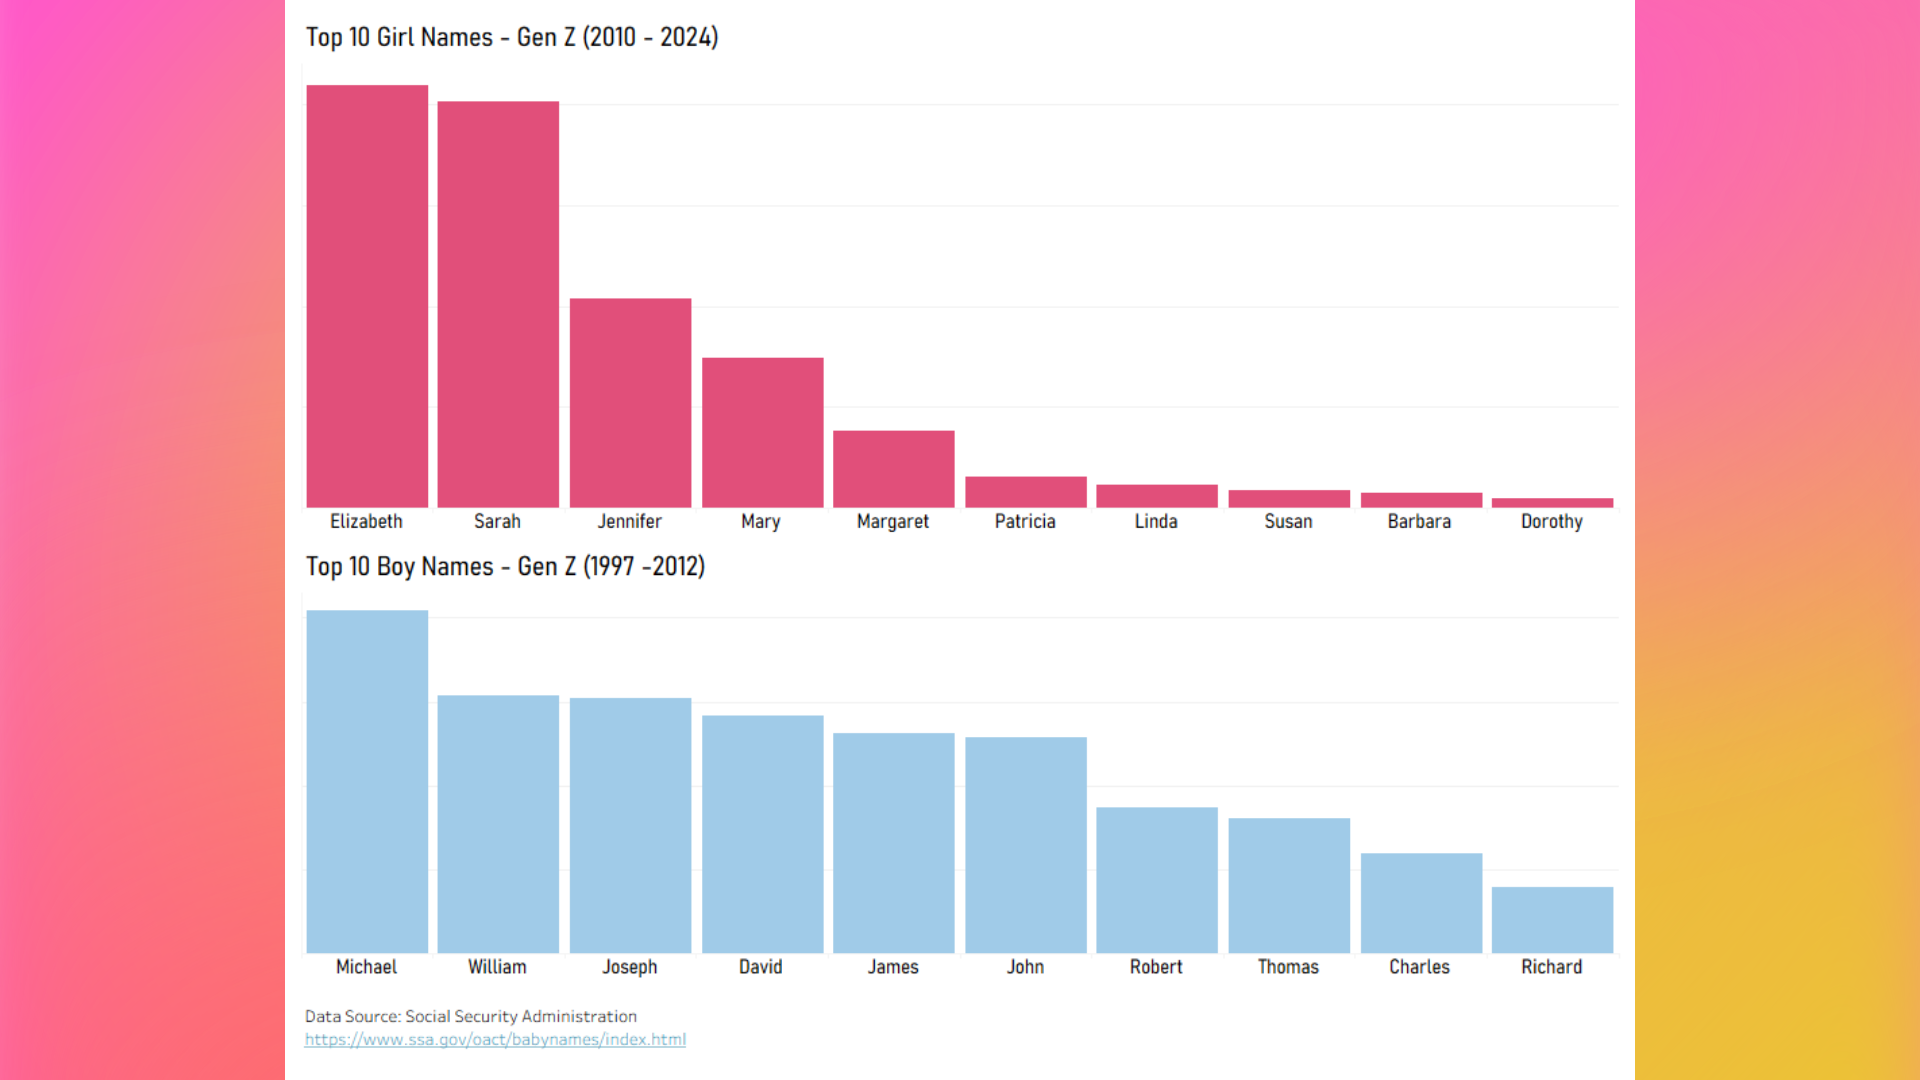

The page's visual inventory and layout, read from the dashboard file:
{"tool":"tableau","page":{"name":"Top 10 Baby Names Gen Z","canvas":[1000,800],"ordinal":2},"visuals":[{"type":"worksheet","title":"Top 10 Girl Names - Gen Alpha (2010 - 2024)","mark":"Bar","rows":["count"],"cols":["name"],"box":[8,8,984,392]},{"type":"worksheet","title":"Top 10 Boy Names - Gen Z (1997 -2012)","mark":"Bar","rows":["count"],"cols":["name"],"box":[8,400,984,330]},{"type":"text","box":[8,730,984,62]}]}

Visuals, with their boxes on the page's 1000x800 design canvas (x1, y1, x2, y2). These are canvas units, not pixel positions in the 1920x1080 screenshot, which may show the page scaled, cropped or inside an application window:
"Top 10 Girl Names - Gen Alpha (2010 - 2024)" worksheet (Bar marks): pyautogui.locateOnScreen(8, 8, 992, 400)
"Top 10 Boy Names - Gen Z (1997 -2012)" worksheet (Bar marks): pyautogui.locateOnScreen(8, 400, 992, 730)
text: pyautogui.locateOnScreen(8, 730, 992, 792)
